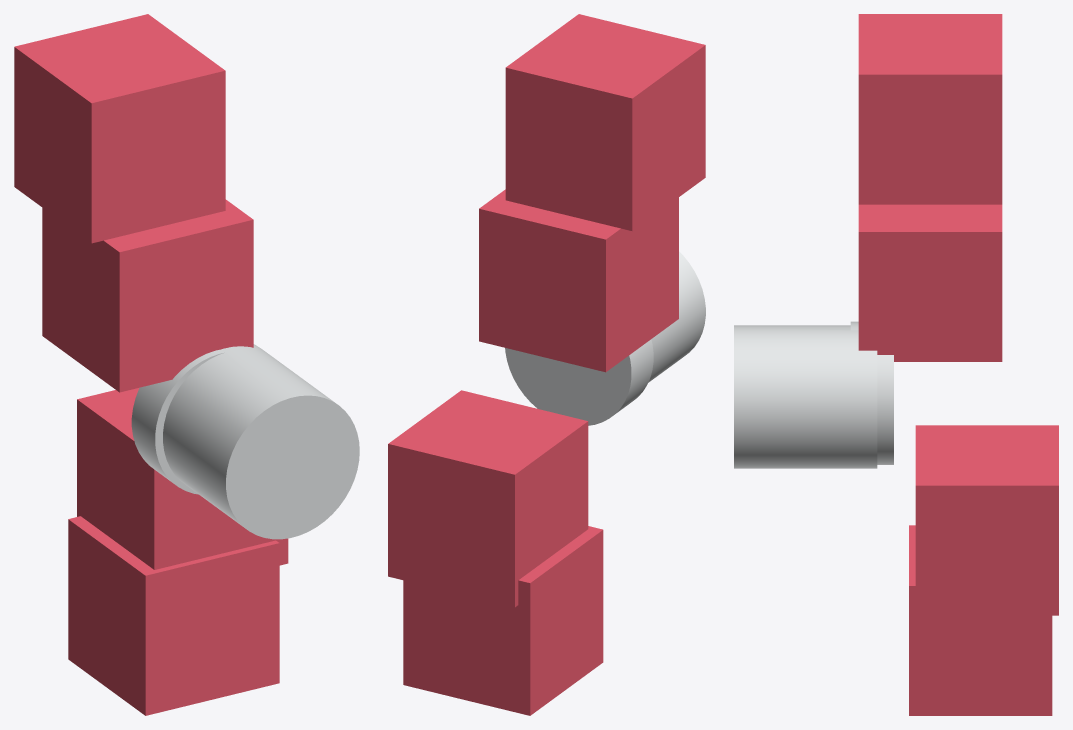
3 renders of one model, left to right at view 1: azimuth 30°, elevation 25°; view 2: azimuth 150°, elevation 25°; view 3: azimuth 270°, elevation 25°, orthographic. The views are drawn at different scales.
Parts seen in each view (by area): view 1: top_block, bottom_block, cylinder, upper_step, lower_step; view 2: top_block, lower_step, upper_step, bottom_block, cylinder; view 3: top_block, lower_step, upper_step, cylinder, bottom_block.
Boxes of the visible parts, left/top/right/bottom form: top_block: left=14, top=14, right=225, bottom=243; bottom_block: left=68, top=516, right=279, bottom=715; cylinder: left=131, top=344, right=359, bottom=539; upper_step: left=42, top=199, right=253, bottom=392; lower_step: left=77, top=387, right=288, bottom=569; top_block: left=505, top=14, right=705, bottom=231; lower_step: left=388, top=390, right=588, bottom=607; upper_step: left=479, top=189, right=678, bottom=372; bottom_block: left=403, top=526, right=603, bottom=715; cylinder: left=505, top=251, right=705, bottom=425; top_block: left=858, top=14, right=1002, bottom=204; lower_step: left=915, top=425, right=1058, bottom=615; upper_step: left=858, top=204, right=1002, bottom=361; cylinder: left=734, top=321, right=893, bottom=468; bottom_block: left=909, top=525, right=1052, bottom=715.
Size of the model in its own units: 0.073 by 0.2 by 0.0974.
